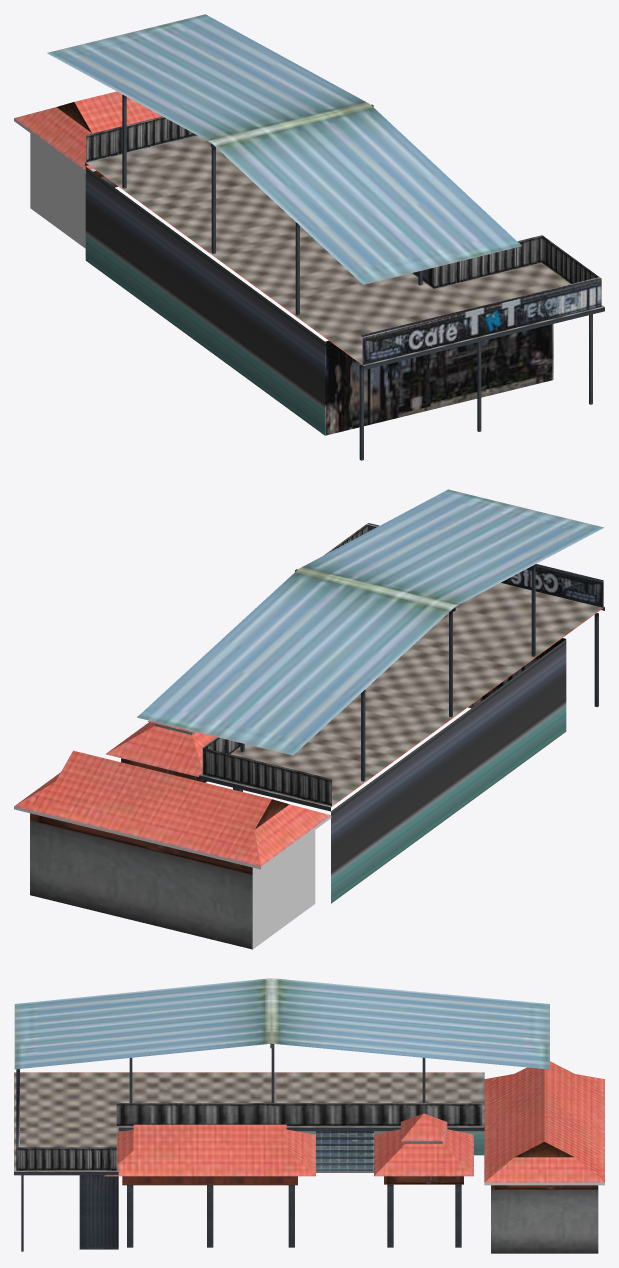
3 views of the same model, one above another, from view 1: azimuth 30°, elevation 25°; view 2: azimuth 150°, elevation 25°; view 3: azimuth 270°, elevation 25° (orthographic). The views are drawn at different scales.
Visible parts, largest first — view 1: 5d6e31cf6589c60e5c57380f.001; view 2: 5d6e31cf6589c60e5c57380f.001; view 3: 5d6e31cf6589c60e5c57380f.001.
Boxes of the visible parts, bbox=[...] form: 5d6e31cf6589c60e5c57380f.001: bbox=[14, 14, 604, 460]; 5d6e31cf6589c60e5c57380f.001: bbox=[14, 489, 604, 949]; 5d6e31cf6589c60e5c57380f.001: bbox=[14, 978, 604, 1253].
Bounding box in the file's own units: 9.36 × 7.48 × 22.6.
1 material, 1 textured.
